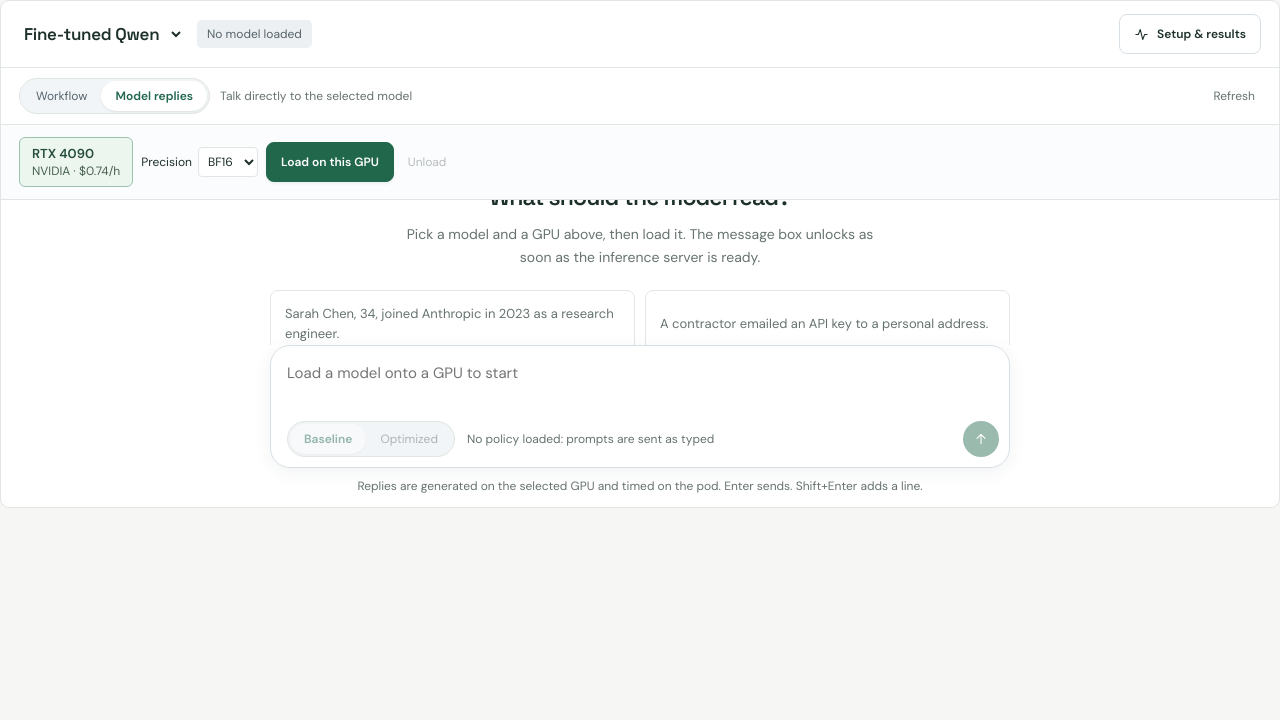
it: unsupported spending requirements stay visible and create no executable plan
This screenshot has width=1280, height=720.
(page scrolled)
Step 1. Click the button "Workflow" → (62, 96), box [22,81,101,111]
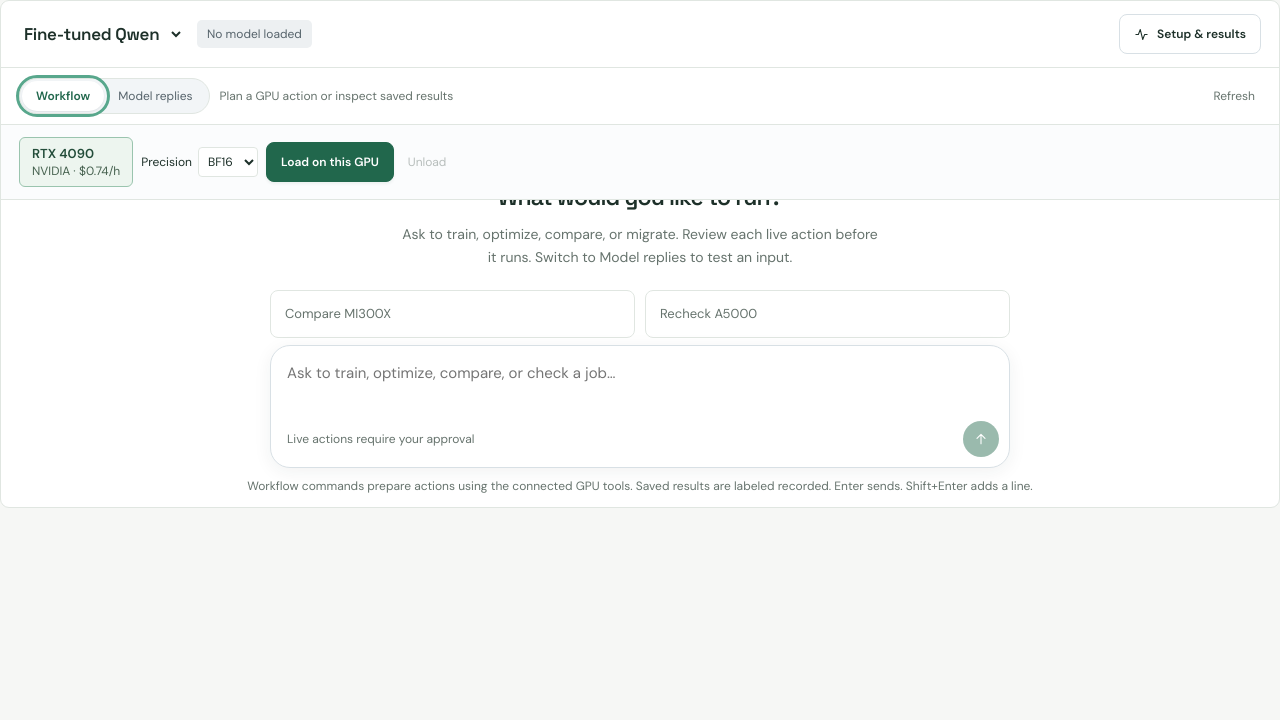
Step 2. Type "train baseline under $20" into the text box named "Message GPU workflow" → (643, 384), box [287,354,999,415]
Then press Enter
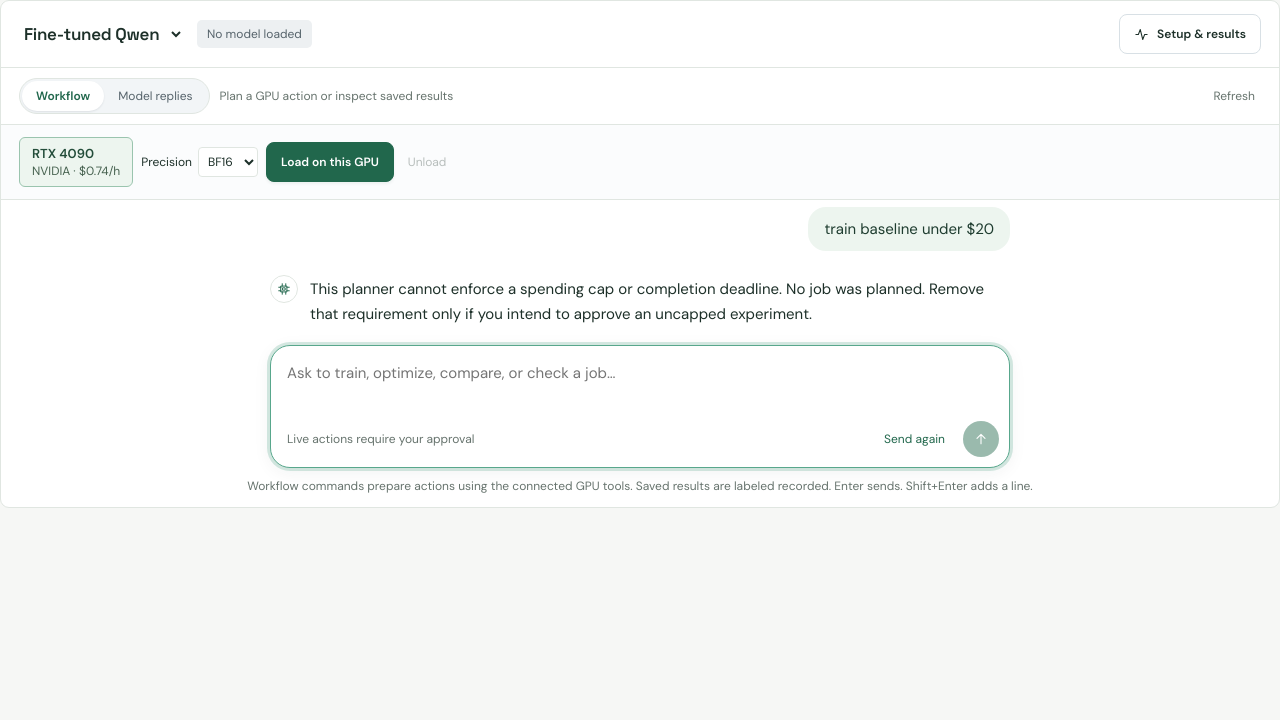
Now the text "cannot enforce a spending cap or completion deadline" is shown, box [310,280,988,324]
